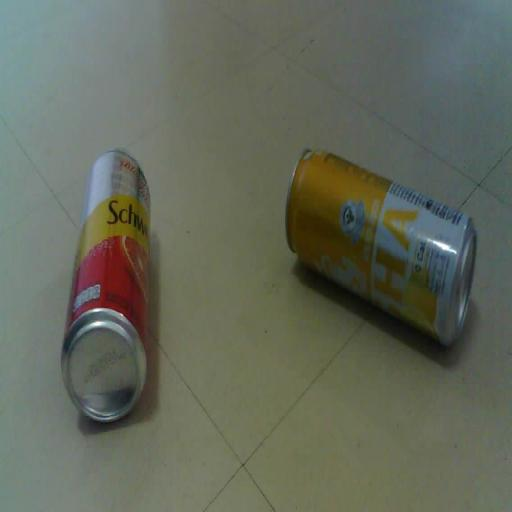canned: (276, 130, 487, 359), (53, 145, 160, 442)
